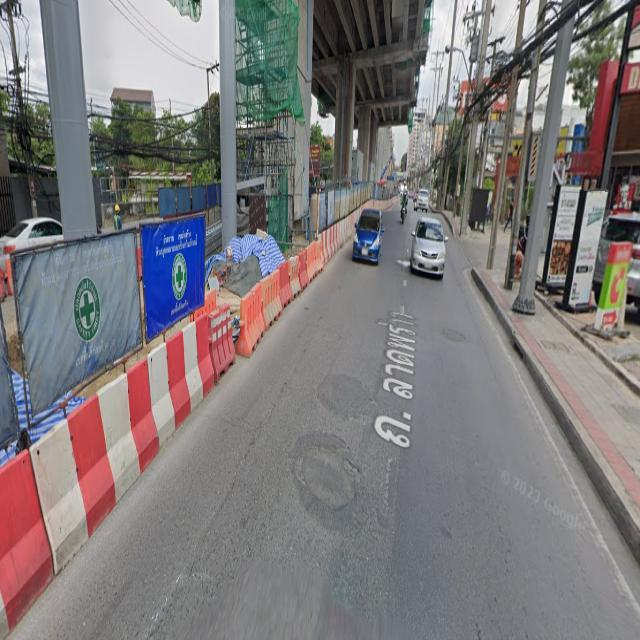fallen_object: (6, 359, 163, 541), (120, 315, 258, 435), (0, 430, 72, 614), (216, 255, 314, 351), (302, 207, 369, 292)
